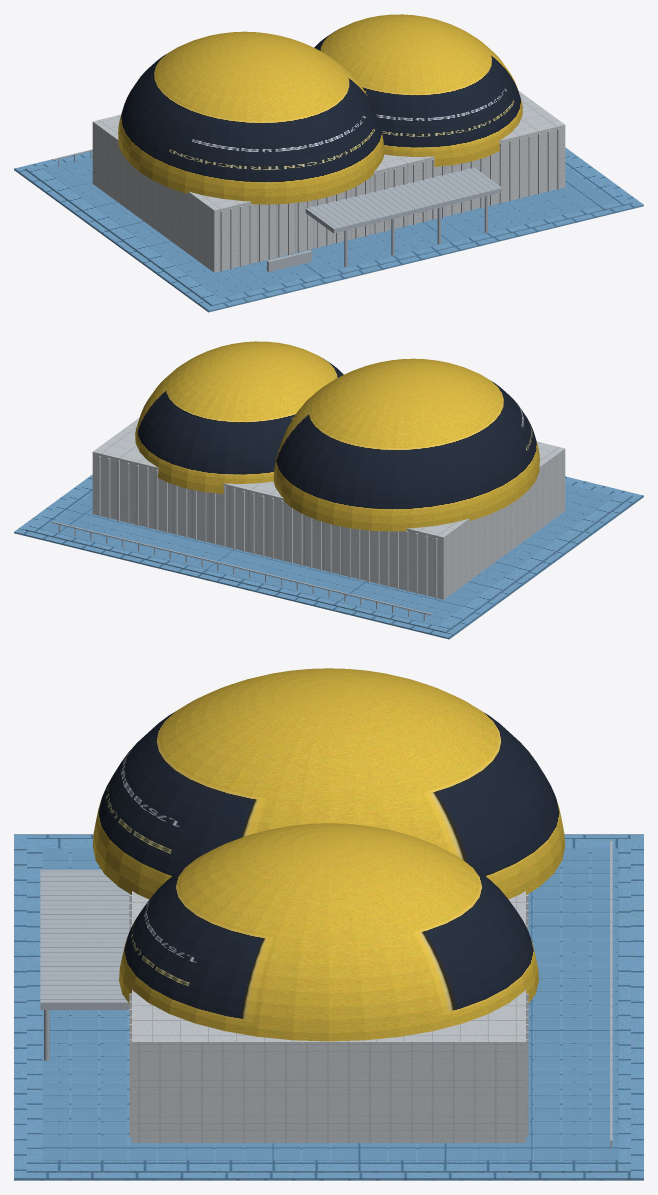
3 views of the same model, one above another, from view 1: azimuth 30°, elevation 25°; view 2: azimuth 150°, elevation 25°; view 3: azimuth 270°, elevation 25° (orthographic). The views are drawn at different scales.
Visible parts, largest first — view 1: 28185_01_21989_005_02__titanium_pebble_roof, 28185_01_21989_005_01__lakeside_plaza, 28185_01_21989_005_03__waterfront_foyer, 28185_01_21989_005_04__canopy_monument; view 2: 28185_01_21989_005_02__titanium_pebble_roof, 28185_01_21989_005_03__waterfront_foyer, 28185_01_21989_005_01__lakeside_plaza, 28185_01_21989_005_04__canopy_monument; view 3: 28185_01_21989_005_02__titanium_pebble_roof, 28185_01_21989_005_01__lakeside_plaza, 28185_01_21989_005_03__waterfront_foyer, 28185_01_21989_005_04__canopy_monument.
Part boxes in pixels (bbox=[...]): 28185_01_21989_005_02__titanium_pebble_roof: bbox=[118, 14, 522, 204]; 28185_01_21989_005_01__lakeside_plaza: bbox=[14, 147, 643, 312]; 28185_01_21989_005_03__waterfront_foyer: bbox=[92, 90, 565, 272]; 28185_01_21989_005_04__canopy_monument: bbox=[51, 149, 502, 271]; 28185_01_21989_005_02__titanium_pebble_roof: bbox=[135, 341, 539, 531]; 28185_01_21989_005_03__waterfront_foyer: bbox=[92, 417, 565, 599]; 28185_01_21989_005_01__lakeside_plaza: bbox=[14, 474, 643, 639]; 28185_01_21989_005_04__canopy_monument: bbox=[51, 521, 431, 620]; 28185_01_21989_005_02__titanium_pebble_roof: bbox=[92, 668, 565, 1041]; 28185_01_21989_005_01__lakeside_plaza: bbox=[14, 834, 643, 1180]; 28185_01_21989_005_03__waterfront_foyer: bbox=[129, 891, 528, 1143]; 28185_01_21989_005_04__canopy_monument: bbox=[40, 841, 612, 1148].
Bounding box in the file's own units: 62 × 21.5 × 48.
Materials: 4 (4 with a texture image).
